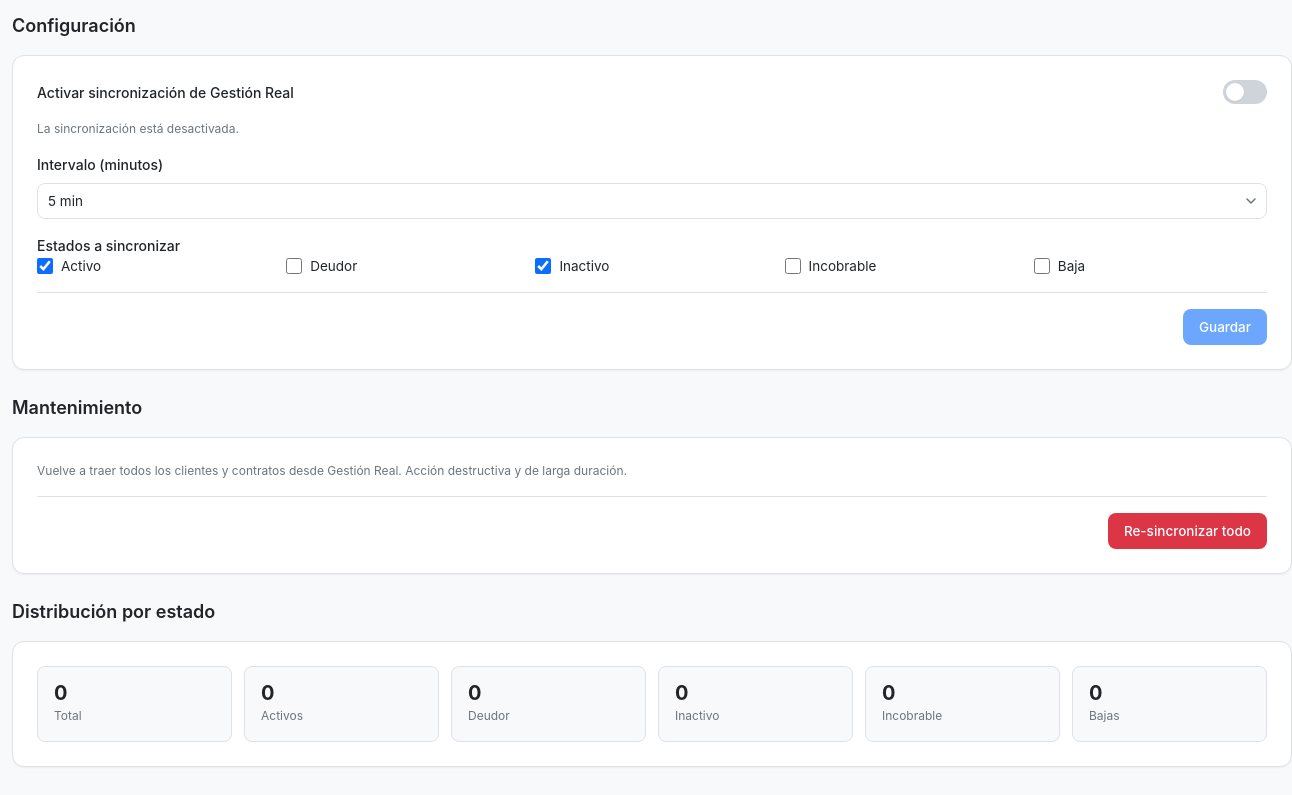
Test: Configuración — estados › re-checking back to original estados reports clean (set equality)
Uncheck then re-check Activo → identical set → clean.
Click the checkbox labelled "Activo" at (45, 266), box [37,258,53,274]
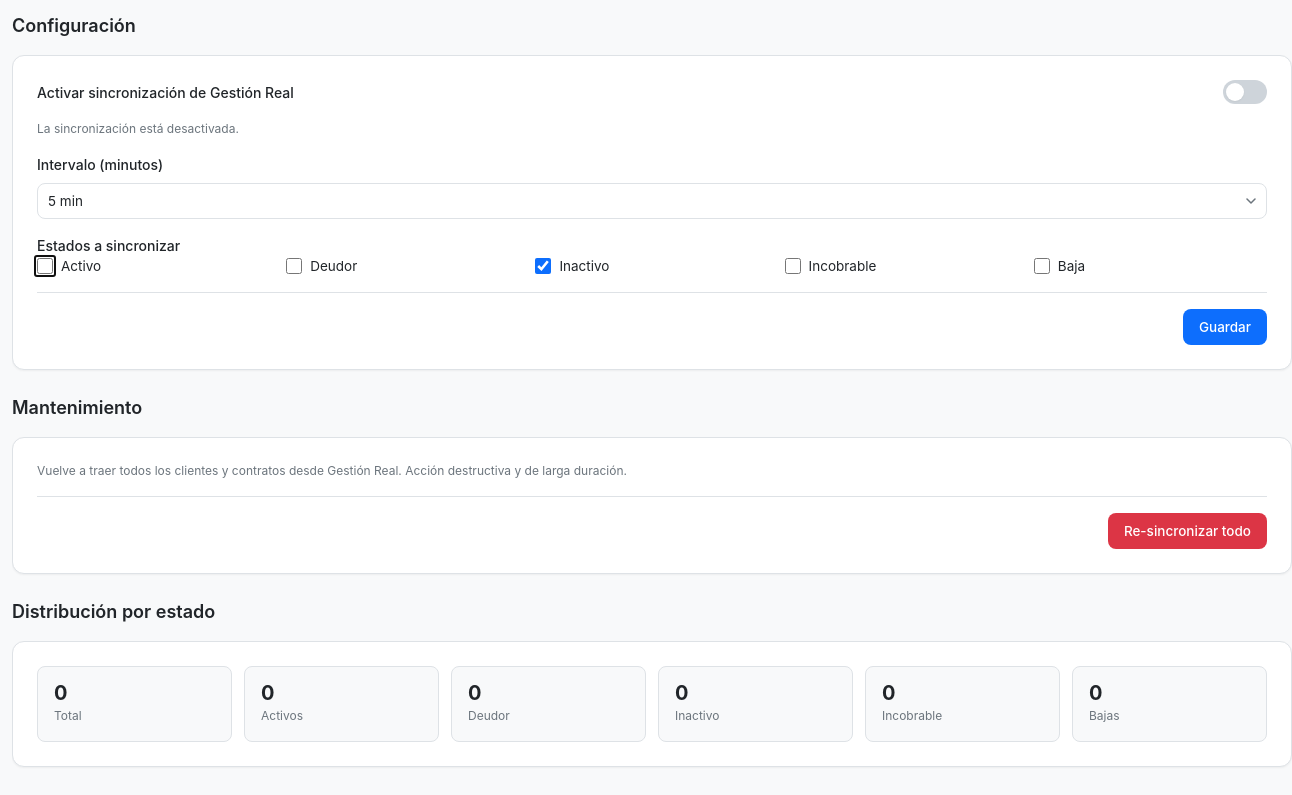
Click the checkbox labelled "Activo" at (45, 266), box [37,258,53,274]
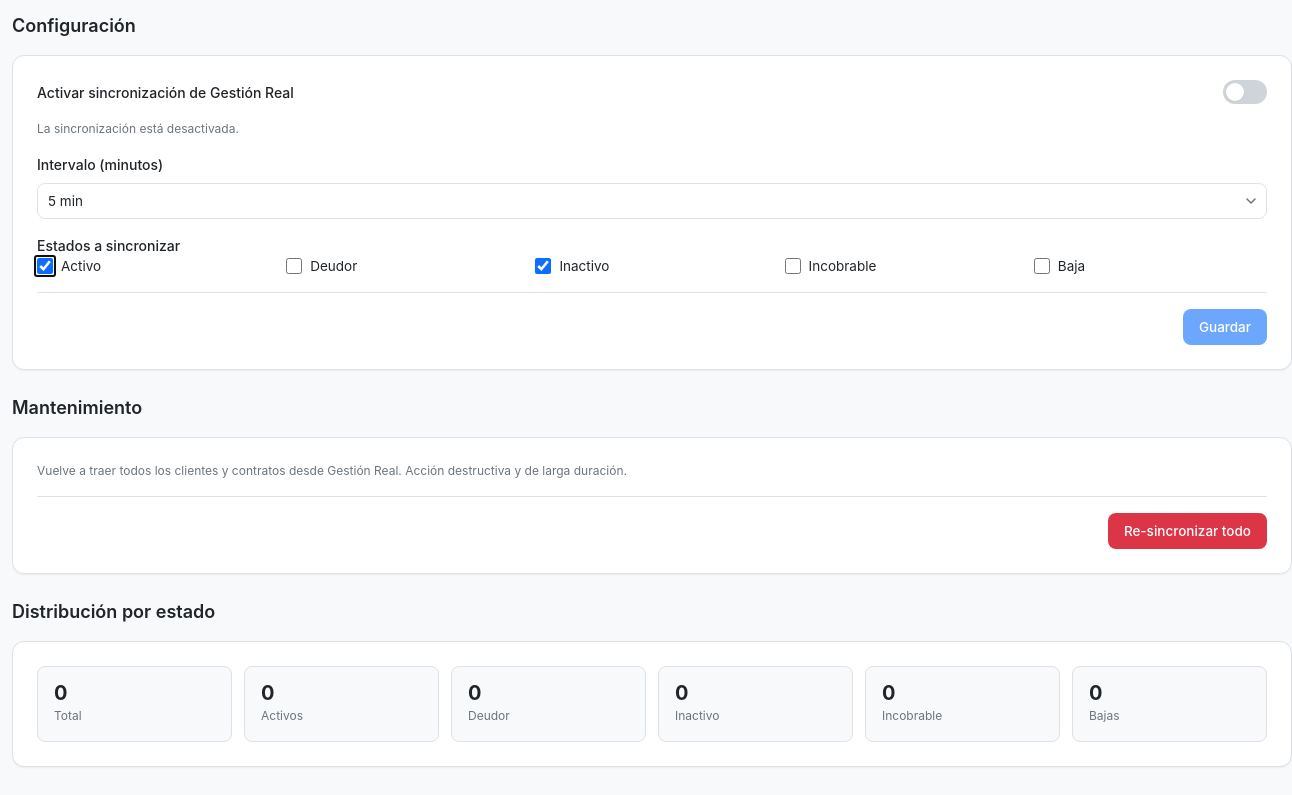
Check: the button "Guardar" is disabled, box [1183,309,1267,345]
